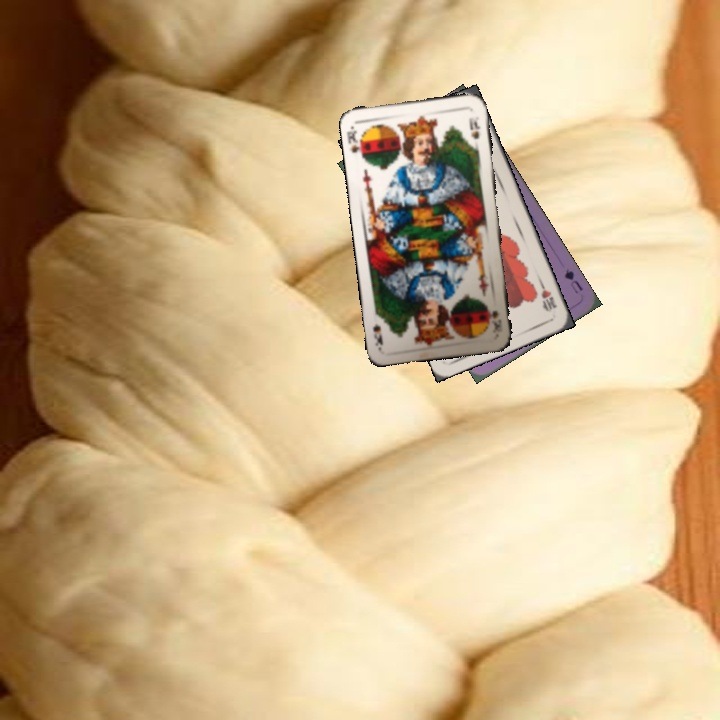GU: (560, 265, 586, 296)
H10: (536, 278, 560, 315)
SK: (344, 122, 367, 161), (487, 305, 504, 332)
